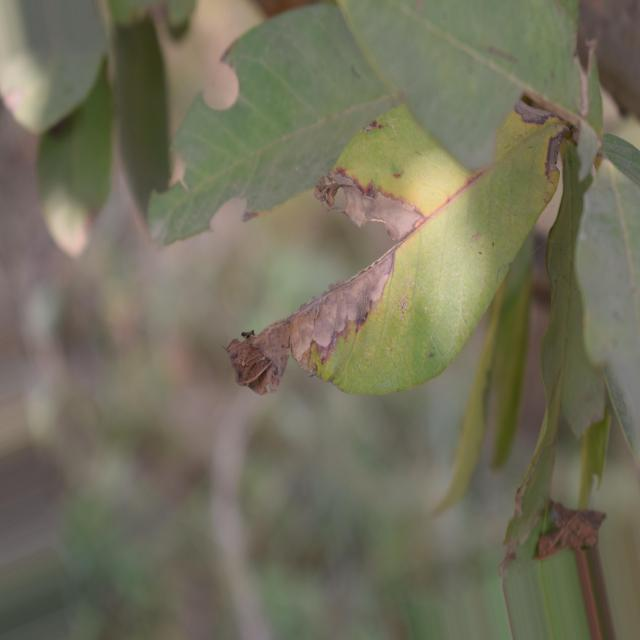Canker: (230, 107, 565, 394), (148, 4, 399, 244), (504, 141, 605, 557)
